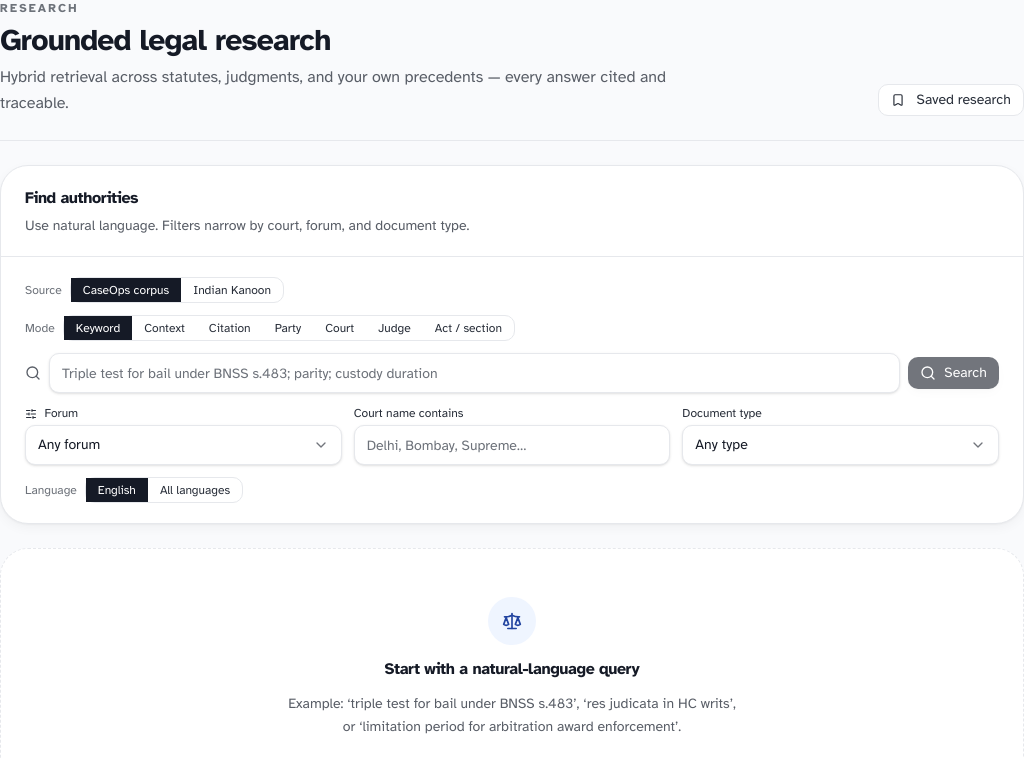
Test: ResearchPage › runs a readiness-gated licensed search with attribution and source access
Click the button with test id "research-source-indian-kanoon" at (232, 290), box [181,278,283,302]
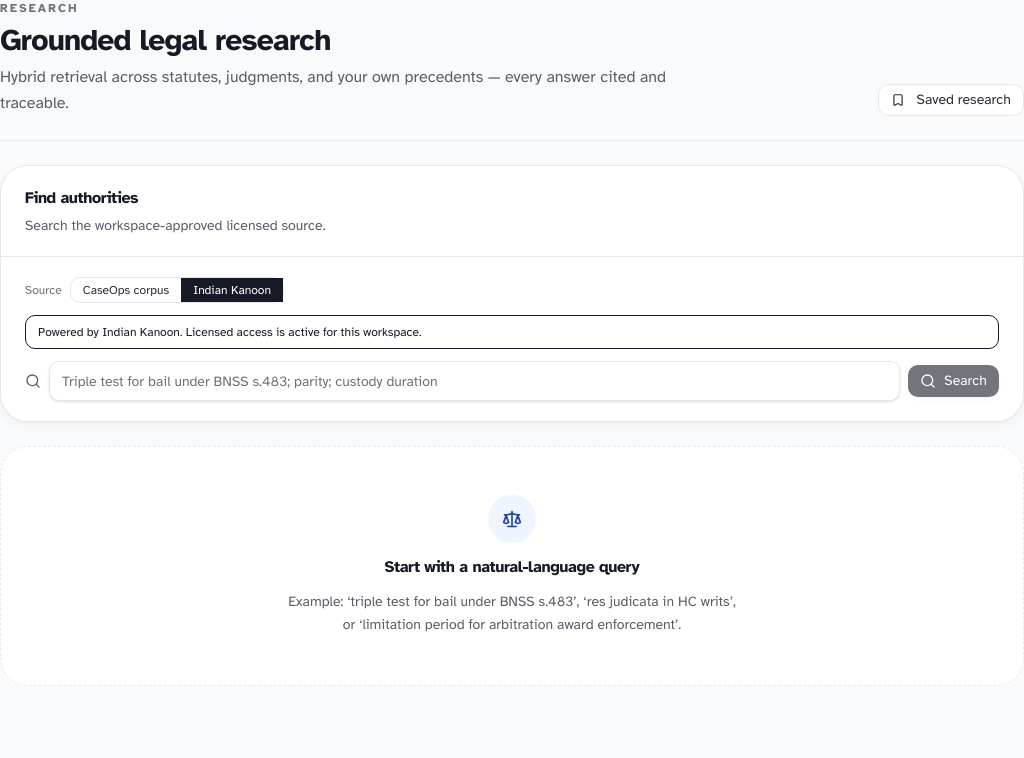
Expected: the text "Powered by Indian Kanoon. Licensed access is active for this workspace." is shown, [25,315,999,349]
Replace the text in the field with test id "research-query-input" with "constitutional proportionality" at (475, 381), box [49,361,900,401]
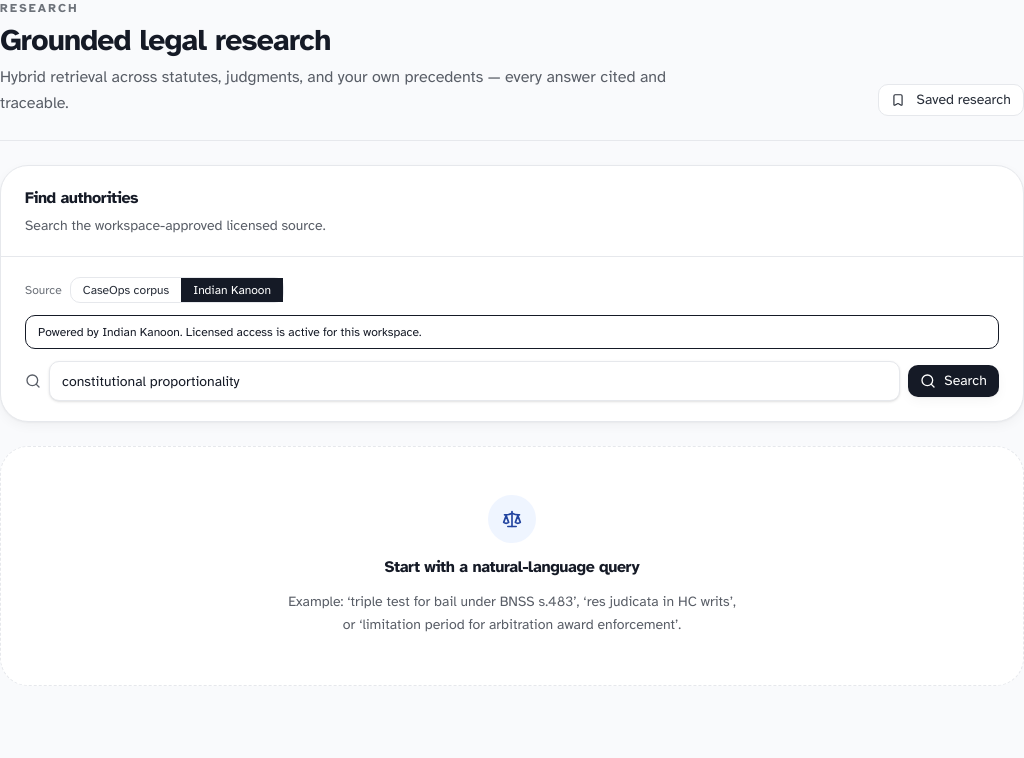
Click the button with test id "research-query-submit" at (954, 381), box [908,365,999,397]
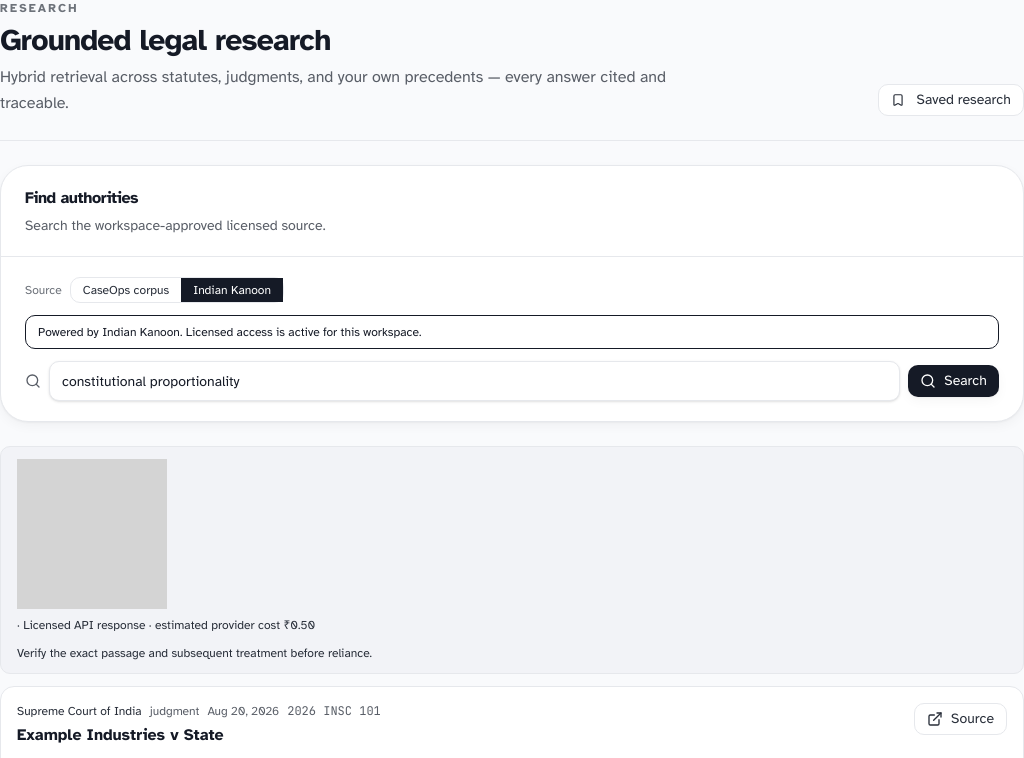
Expected: the heading "Example Industries v State" is shown, [17,725,224,745]
Expected: the element with test id "research-indian-kanoon-attribution" shows "estimated provider cost ₹0.50", [145,618,315,632]
Expected: the link with test id "source-action-open" reads "Source", [914,703,1007,735]
